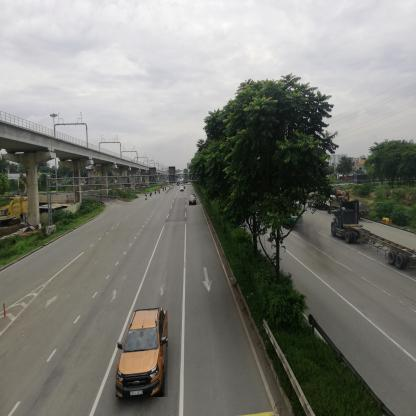car: (117, 312, 169, 398), (188, 194, 198, 207)
container: (332, 204, 416, 264)
motorbike: (145, 196, 148, 201)
truck: (355, 175, 373, 185)
